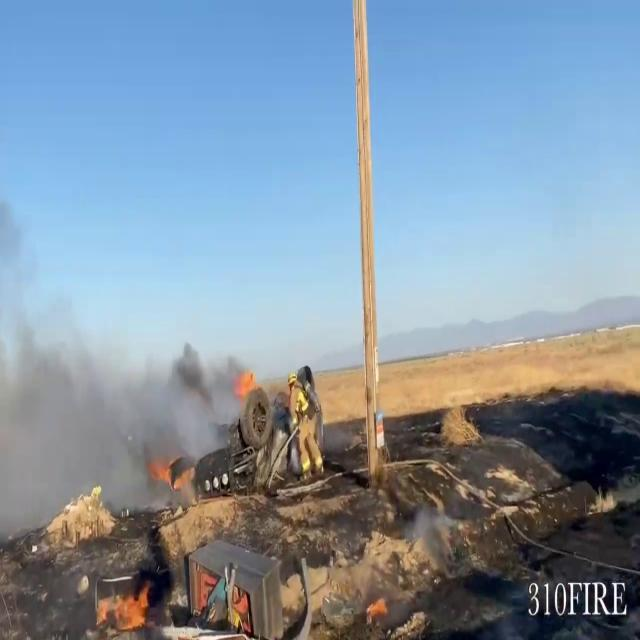Smoke: (1, 275, 246, 537)
